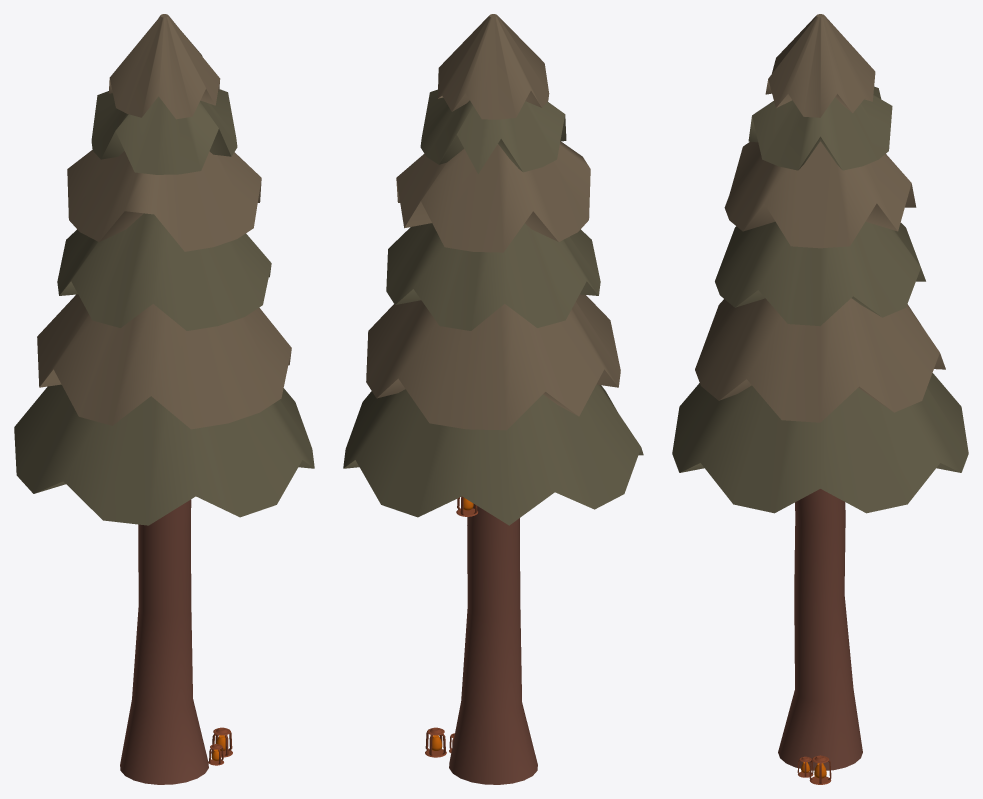
The model's file is Lowpoly_Tree_Lamps_ver1.fbx.
3 views of the same model, side by side, from view 1: azimuth 30°, elevation 25°; view 2: azimuth 150°, elevation 25°; view 3: azimuth 270°, elevation 25° (orthographic).
Parts seen in each view (by area): view 1: Lowpoly_Tree_Lamps_ver1; view 2: Lowpoly_Tree_Lamps_ver1; view 3: Lowpoly_Tree_Lamps_ver1.
Part boxes in pixels (box(x1,y1,x2,y2)): Lowpoly_Tree_Lamps_ver1: box(14, 14, 314, 784); Lowpoly_Tree_Lamps_ver1: box(343, 14, 643, 784); Lowpoly_Tree_Lamps_ver1: box(672, 14, 968, 784).
Bounding box in the file's own units: 10.07 × 27.63 × 10.07.
